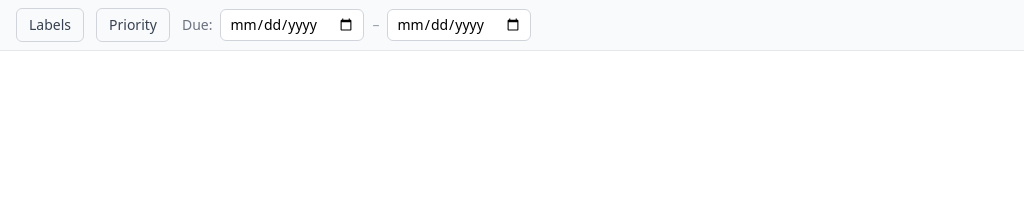
Test case: FilterBar › opens priority dropdown and shows all priority options
Click the button with aria-label "Filter by priority" at x=133, y=25, box top-left (96, 8), bottom-right (170, 42)
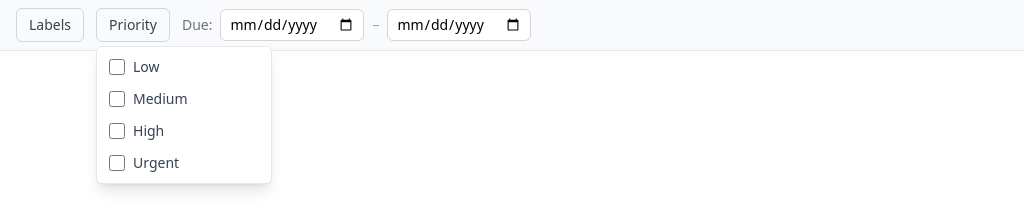
Now the text "Low" is shown, box top-left (133, 57), bottom-right (160, 77)
Now the text "Medium" is shown, box top-left (133, 89), bottom-right (188, 109)
Now the text "High" is shown, box top-left (133, 121), bottom-right (164, 141)
